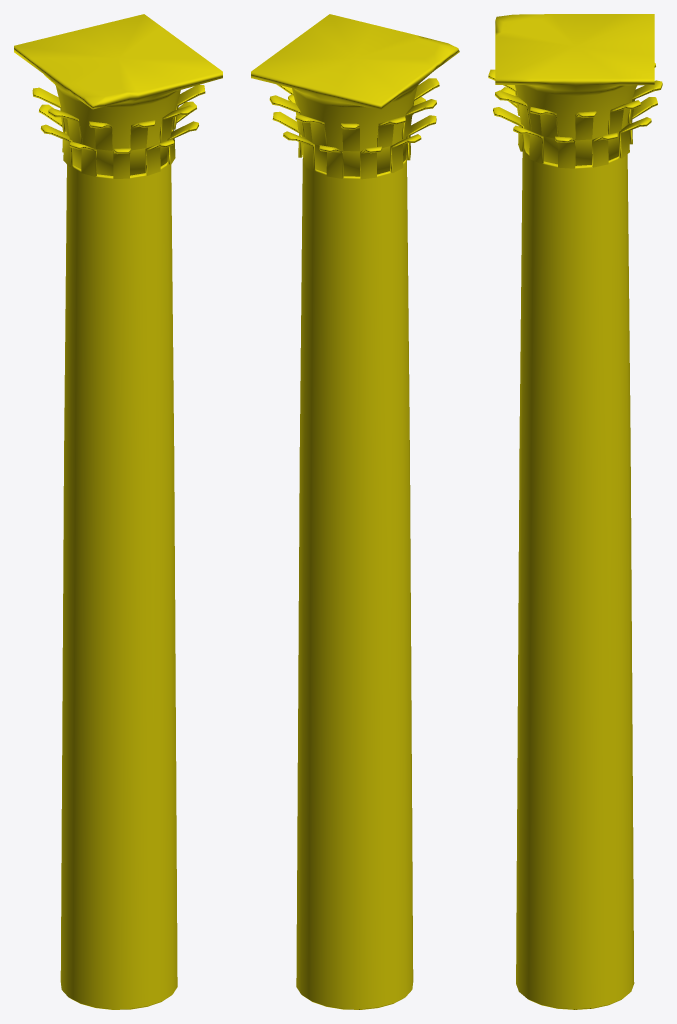
File: Pillar_06_Lod0.fbx
The picture shows the model from 3 angles, left to right: view 1: azimuth 30°, elevation 25°; view 2: azimuth 150°, elevation 25°; view 3: azimuth 270°, elevation 25°; orthographic projection.
Parts seen in each view (by area): view 1: Pillar_06_Lod0; view 2: Pillar_06_Lod0; view 3: Pillar_06_Lod0.
Part boxes in pixels (box(x1,y1,x2,y2)): Pillar_06_Lod0: box(14, 14, 222, 1009); Pillar_06_Lod0: box(251, 14, 459, 1009); Pillar_06_Lod0: box(488, 14, 662, 1009).
Size of the model in its own units: 405 by 2406 by 405.
